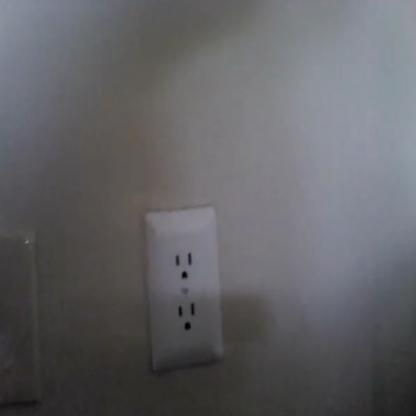OUTLET: (144, 209, 220, 363)
